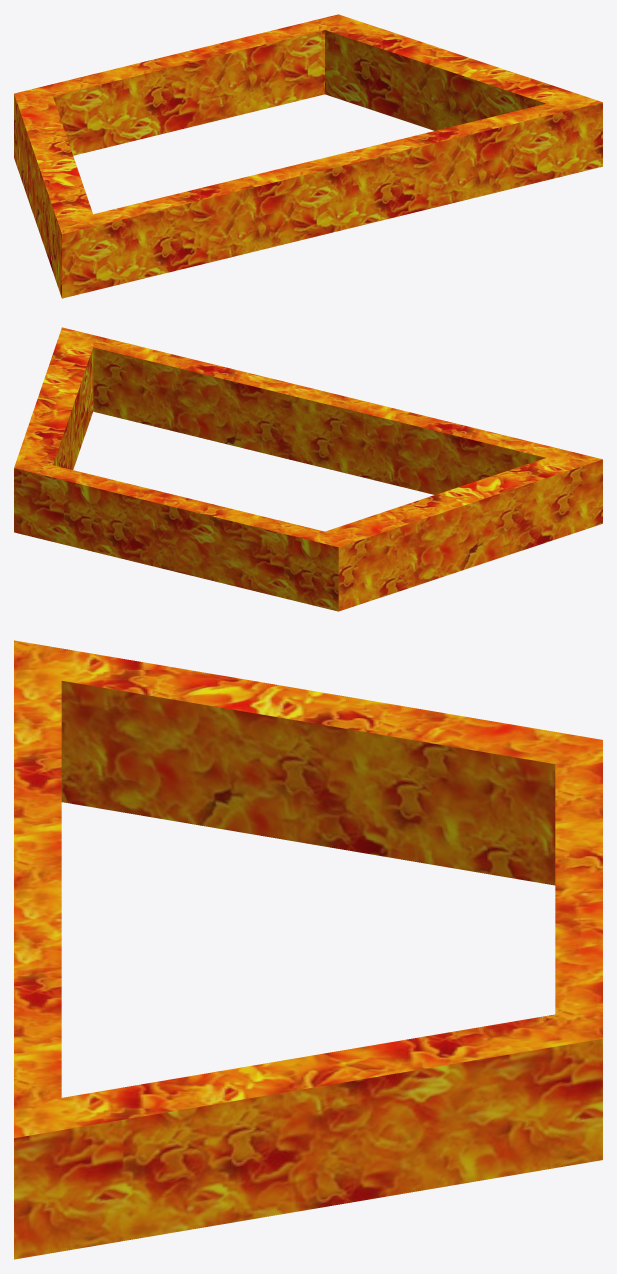
3 views of the same model, one above another, from view 1: azimuth 30°, elevation 25°; view 2: azimuth 150°, elevation 25°; view 3: azimuth 270°, elevation 25° (orthographic). The views are drawn at different scales.
Parts seen in each view (by area): view 1: Trapezoid; view 2: Trapezoid; view 3: Trapezoid.
Part boxes in pixels (bbox=[...]): Trapezoid: bbox=[14, 14, 602, 298]; Trapezoid: bbox=[14, 327, 602, 611]; Trapezoid: bbox=[14, 640, 602, 1259].
Bounding box in the file's own units: 87.96 × 10 × 43.98.
1 material, 1 textured.
